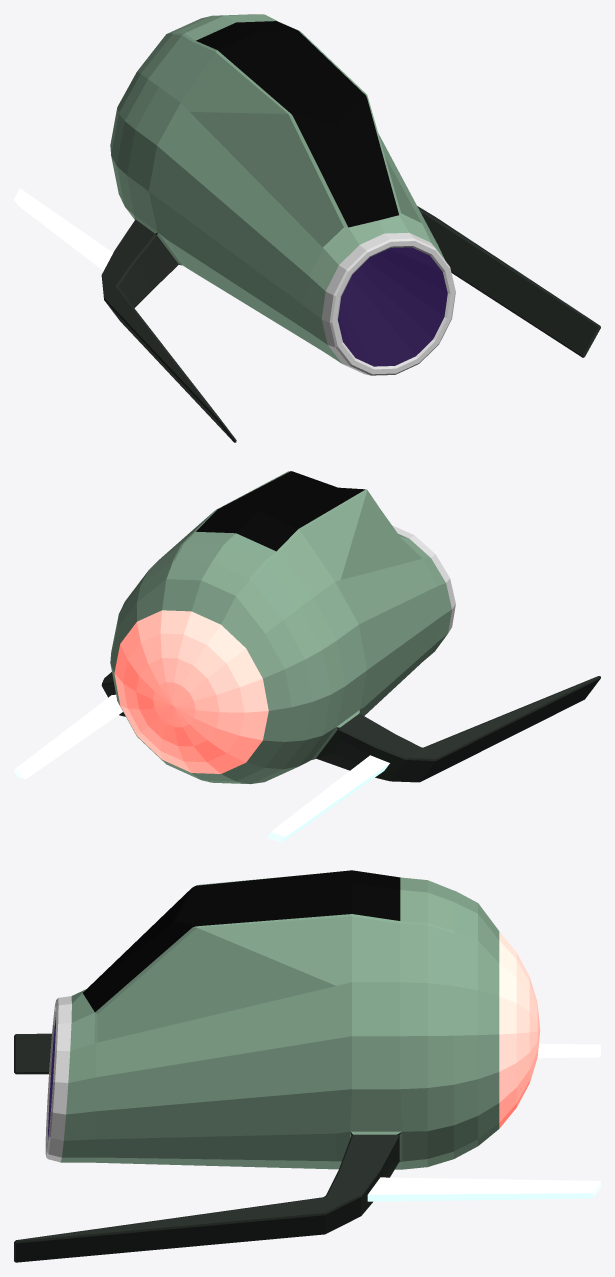
File: EnemyShip1.fbx
3 renders of one model, top to bottom at view 1: azimuth 30°, elevation 25°; view 2: azimuth 150°, elevation 25°; view 3: azimuth 270°, elevation 25°, orthographic. The views are drawn at different scales.
Visible parts, largest first — view 1: ShipVersion2; view 2: ShipVersion2; view 3: ShipVersion2.
Part boxes in pixels (x1,y1,x2,y2): ShipVersion2: [14, 14, 600, 442]; ShipVersion2: [14, 471, 600, 841]; ShipVersion2: [14, 870, 600, 1262].
Bounding box in the file's own units: 351 × 225 × 420.
